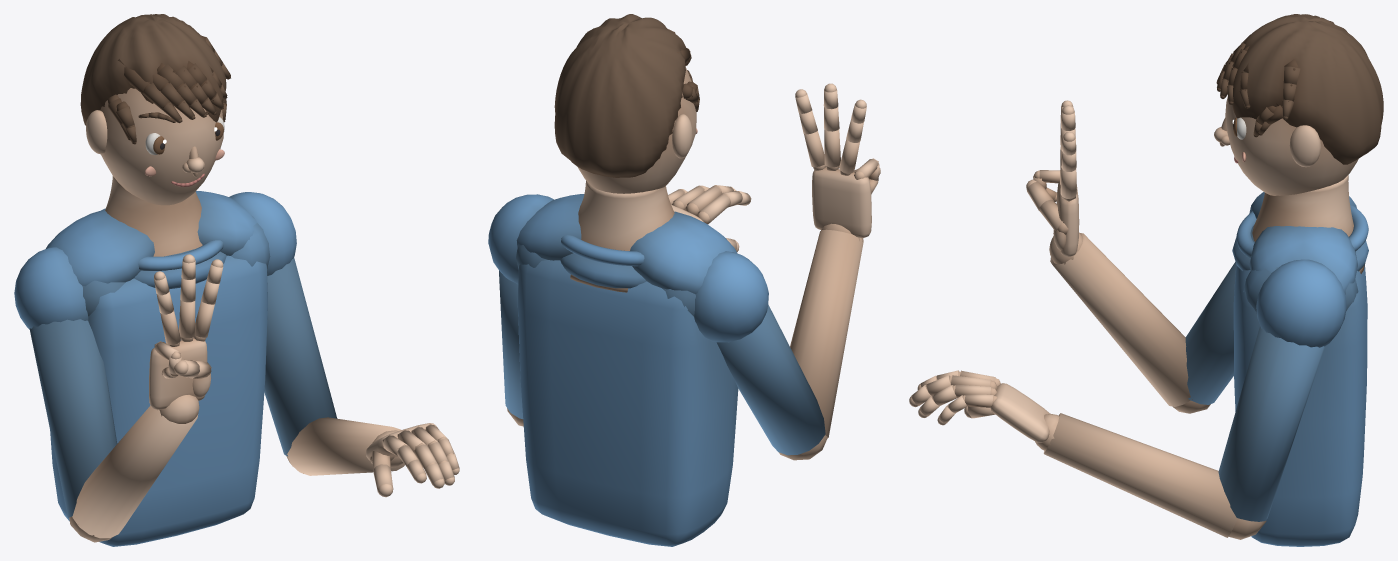
3 views of the same model, side by side, from view 1: azimuth 30°, elevation 25°; view 2: azimuth 150°, elevation 25°; view 3: azimuth 270°, elevation 25° (orthographic).
Visible parts, largest first — view 1: LSC_Body; view 2: LSC_Body; view 3: LSC_Body.
Part boxes in pixels (<box>): LSC_Body: <box>14,14,459,546</box>; LSC_Body: <box>488,14,880,546</box>; LSC_Body: <box>909,14,1383,546</box>.
Size of the model in its own units: 0.4304 by 0.713 by 0.6104.
